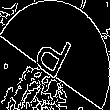P_SW: (32, 24, 78, 86)
